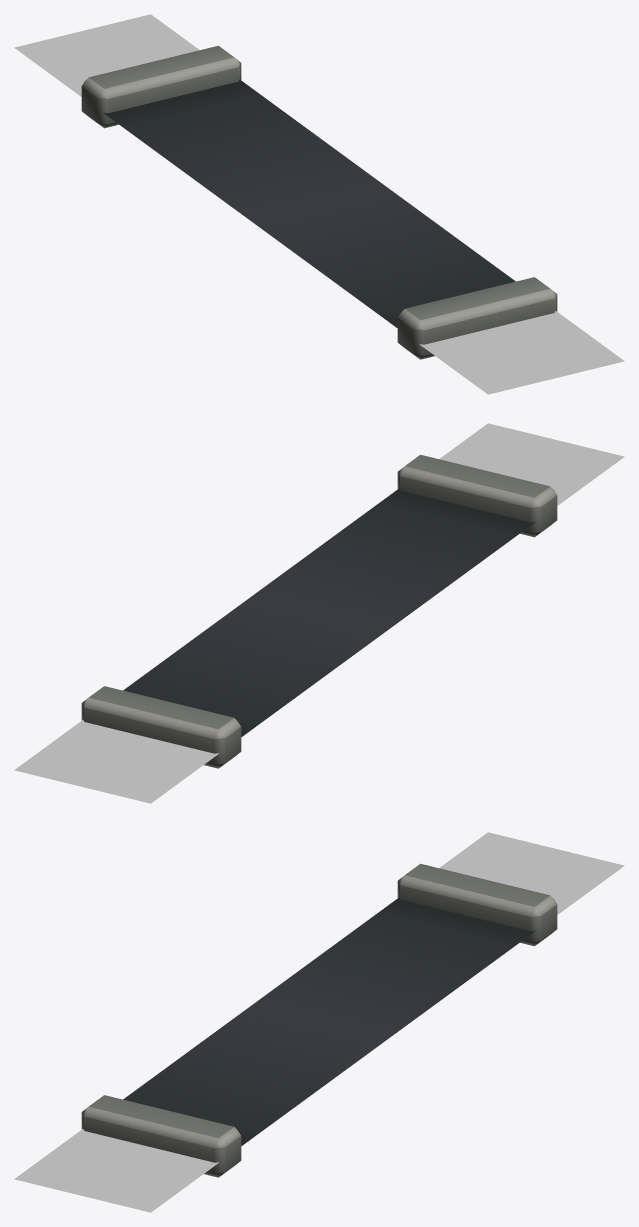
The model's file is lane_section_x1.fbx.
The picture shows the model from 3 angles, top to bottom: view 1: azimuth 30°, elevation 25°; view 2: azimuth 150°, elevation 25°; view 3: azimuth 330°, elevation 25°; orthographic projection.
Parts seen in each view (by area): view 1: lane_section_x1, lane_section_x1_sidewalk; view 2: lane_section_x1, lane_section_x1_sidewalk; view 3: lane_section_x1, lane_section_x1_sidewalk.
Part boxes in pixels (x1,y1,x2,y2): lane_section_x1: (81, 45, 557, 359); lane_section_x1_sidewalk: (14, 14, 624, 394); lane_section_x1: (81, 454, 557, 768); lane_section_x1_sidewalk: (14, 423, 624, 803); lane_section_x1: (81, 863, 557, 1177); lane_section_x1_sidewalk: (14, 832, 624, 1212).
Bounding box in the file's own units: 210 × 55 × 1200.
